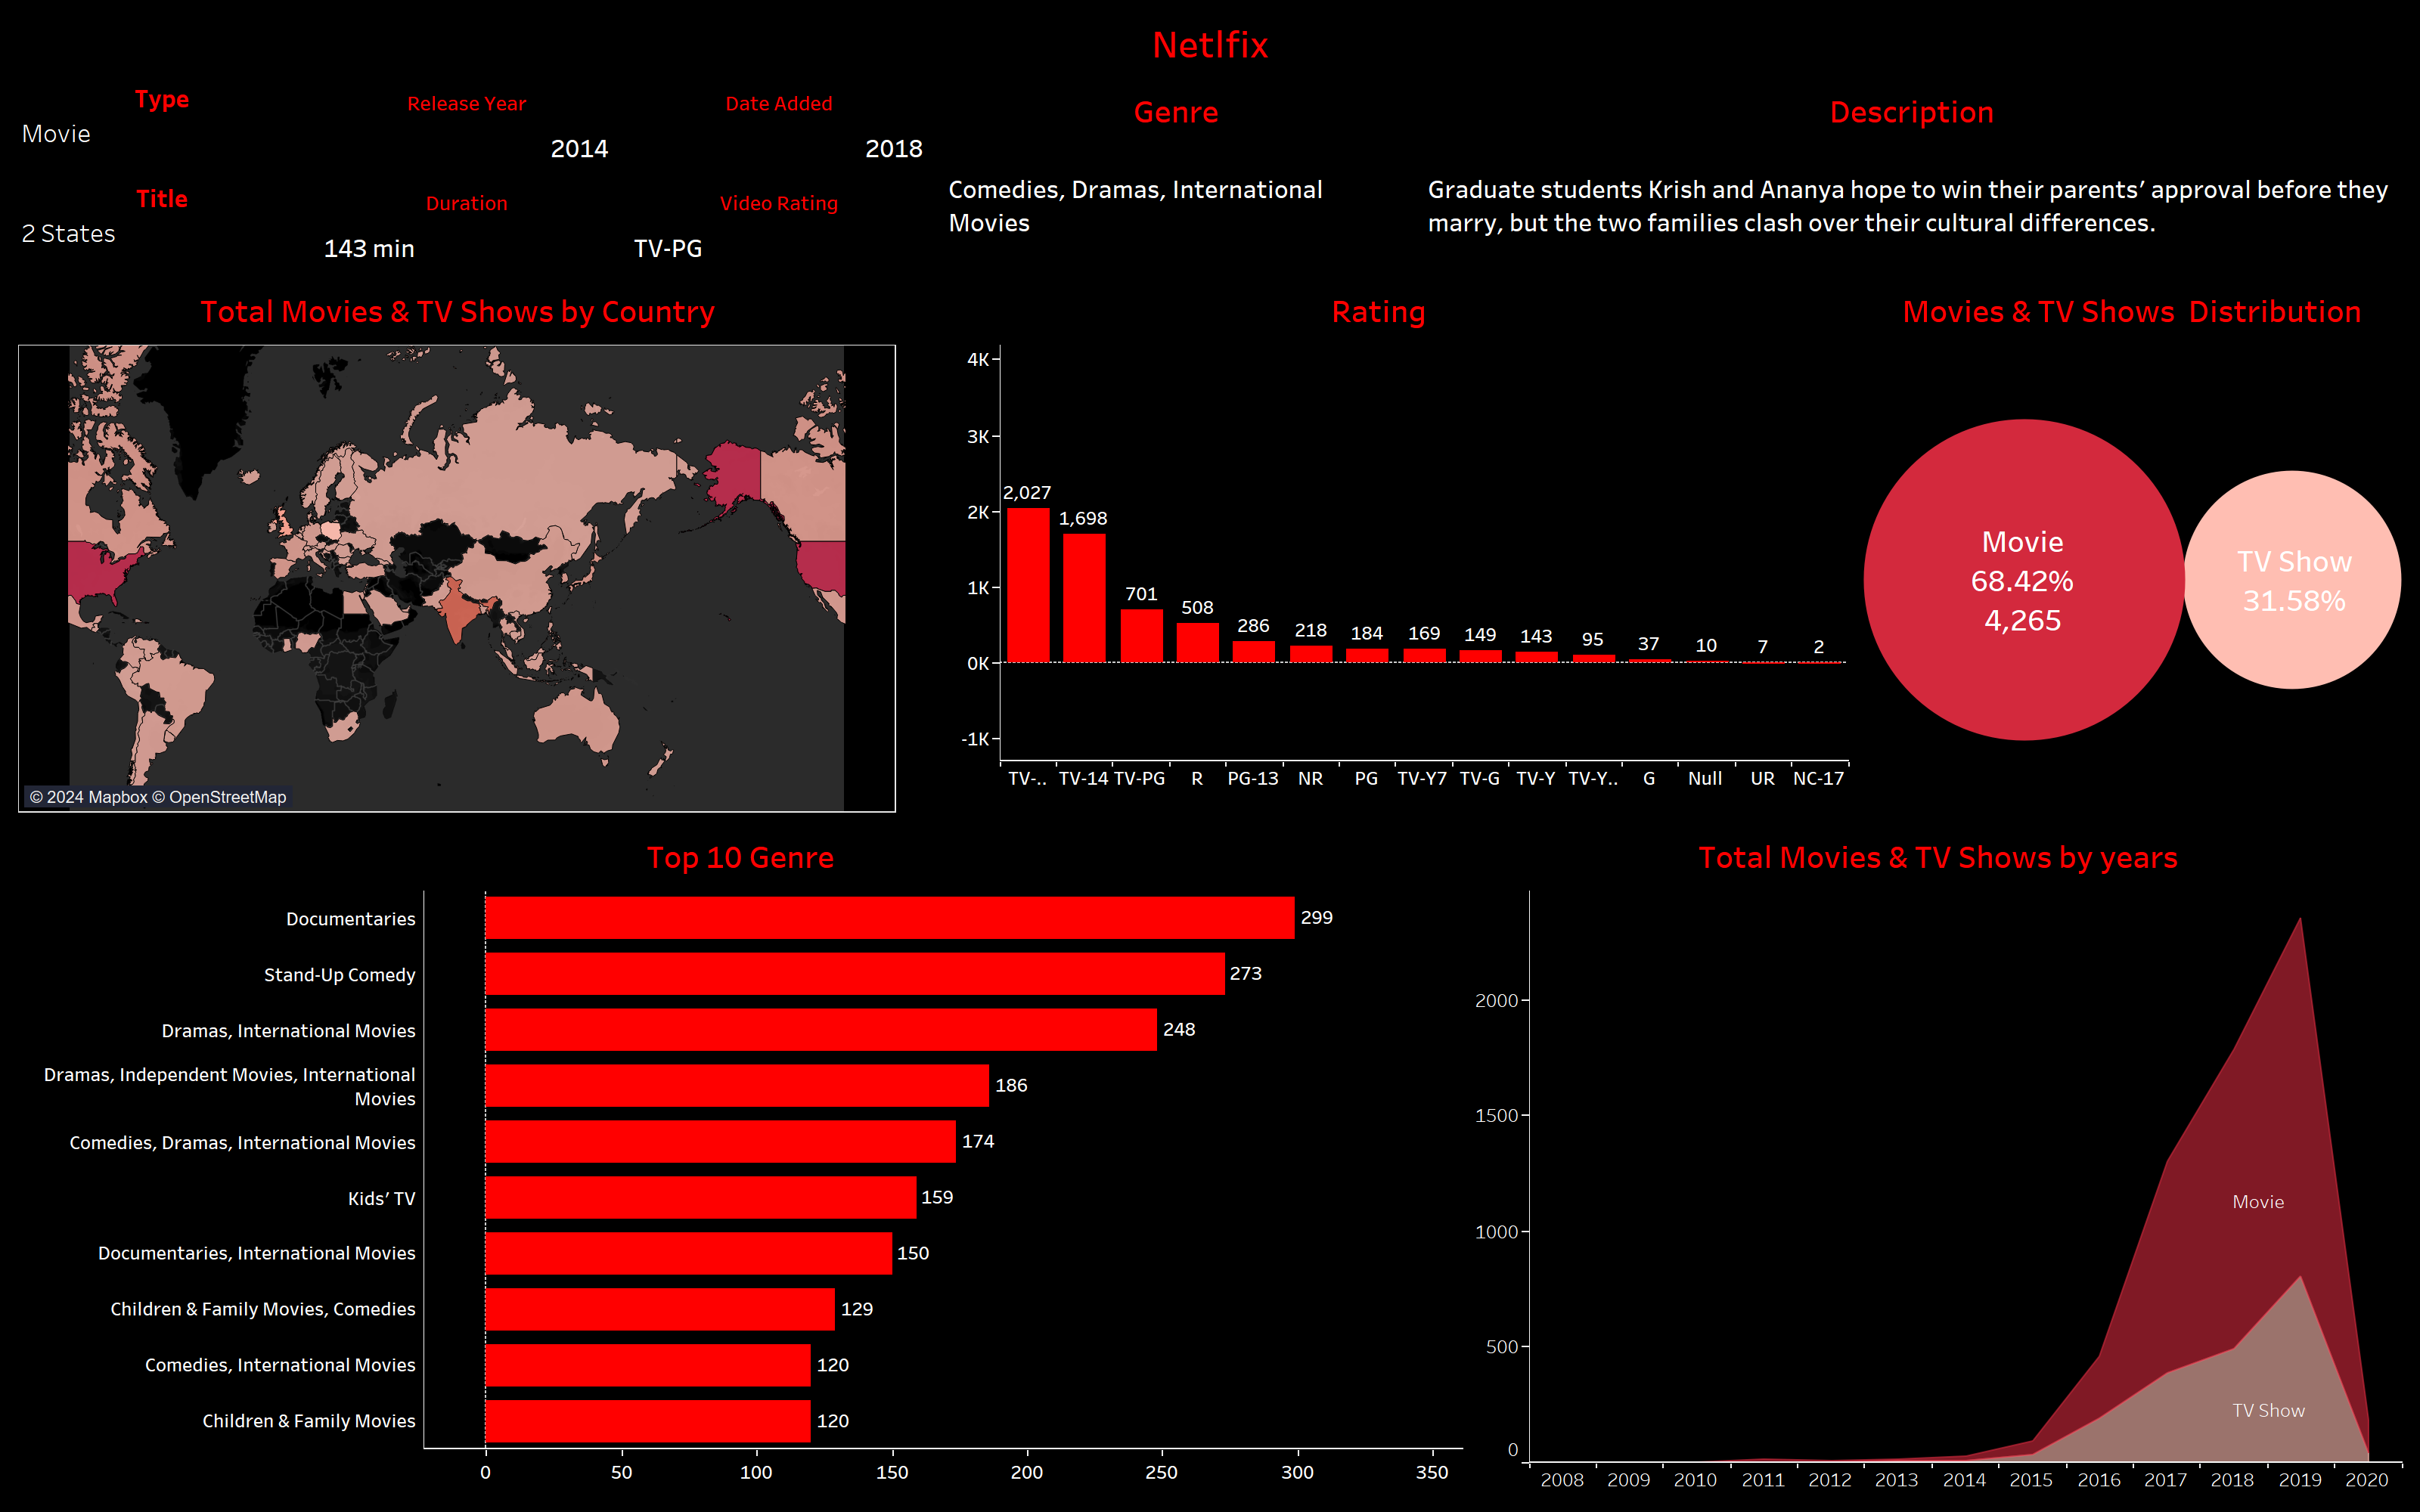

The page's visual inventory and layout, read from the dashboard file:
{"tool":"tableau","page":{"name":"Netlfix","canvas":[1600,1000],"ordinal":0},"visuals":[{"type":"title","box":[8,8,1584,41]},{"type":"filter","title":"Description","param":"[federated.08wm5zp0cj0wze1a9030u182e3t1].[none:type:nk]","box":[8,49,198,66.1]},{"type":"worksheet","title":"Release Year","mark":"Automatic","box":[206,49,205,66.1]},{"type":"worksheet","title":"Date Added","mark":"Automatic","box":[411,49,208,66.1]},{"type":"worksheet","title":"Genre","mark":"Automatic","box":[619,49,317,132.2]},{"type":"worksheet","title":"Description","mark":"Automatic","box":[936,49,656,132.2]},{"type":"filter","title":"Description","param":"[federated.08wm5zp0cj0wze1a9030u182e3t1].[none:title:nk]","box":[8,115.1,198,66.1]},{"type":"worksheet","title":"Duration","mark":"Automatic","box":[206,115.1,205,66.1]},{"type":"worksheet","title":"Video Rating","mark":"Automatic","box":[411,115.1,208,66.1]},{"type":"worksheet","title":"Map chart","mark":"Multipolygon","box":[8,181.2,589.4,360.9]},{"type":"worksheet","title":"Ratings","mark":"Automatic","rows":["show_id"],"cols":["rating"],"box":[597.4,181.2,629.5,360.9]},{"type":"worksheet","title":"Movies & TV Shows distribution","mark":"Circle","box":[1226.8,181.2,365.2,360.9]},{"type":"worksheet","title":"Top 10 genre","mark":"Automatic","rows":["listed_in"],"cols":["show_id"],"box":[8,542.1,962.5,449.9]},{"type":"worksheet","title":"Shows by year","mark":"Area","rows":["show_id"],"cols":["date_added"],"box":[970.5,542.1,621.5,449.9]}]}

Visuals, with their boxes in screenshot pixels (x1, y1, x2, y2), scaled from the page's 1600x1000 canvas onto the 2420x1512 screenshot:
title: <region>12, 12, 2408, 74</region>
"Description" filter: <region>12, 74, 312, 174</region>
"Release Year" worksheet: <region>312, 74, 622, 174</region>
"Date Added" worksheet: <region>622, 74, 936, 174</region>
"Genre" worksheet: <region>936, 74, 1416, 274</region>
"Description" worksheet: <region>1416, 74, 2408, 274</region>
"Description" filter: <region>12, 174, 312, 274</region>
"Duration" worksheet: <region>312, 174, 622, 274</region>
"Video Rating" worksheet: <region>622, 174, 936, 274</region>
"Map chart" worksheet (Multipolygon marks): <region>12, 274, 904, 820</region>
"Ratings" worksheet: <region>904, 274, 1856, 820</region>
"Movies & TV Shows distribution" worksheet (Circle marks): <region>1856, 274, 2408, 820</region>
"Top 10 genre" worksheet: <region>12, 820, 1468, 1500</region>
"Shows by year" worksheet (Area marks): <region>1468, 820, 2408, 1500</region>
